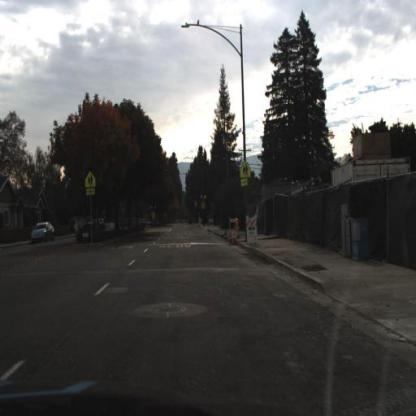car: (31, 221, 57, 244), (32, 220, 57, 243)
